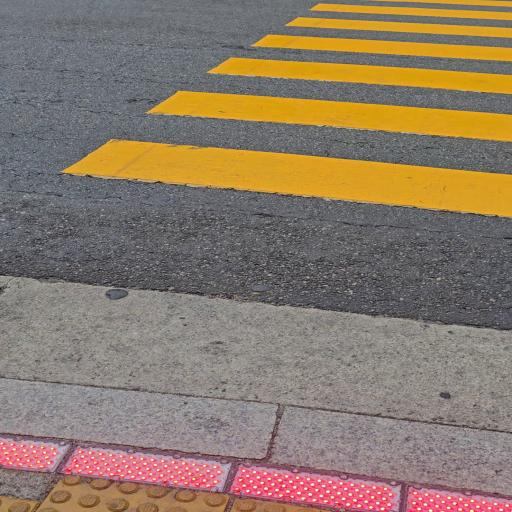yellow-crosswalk: (0, 0, 512, 230)
